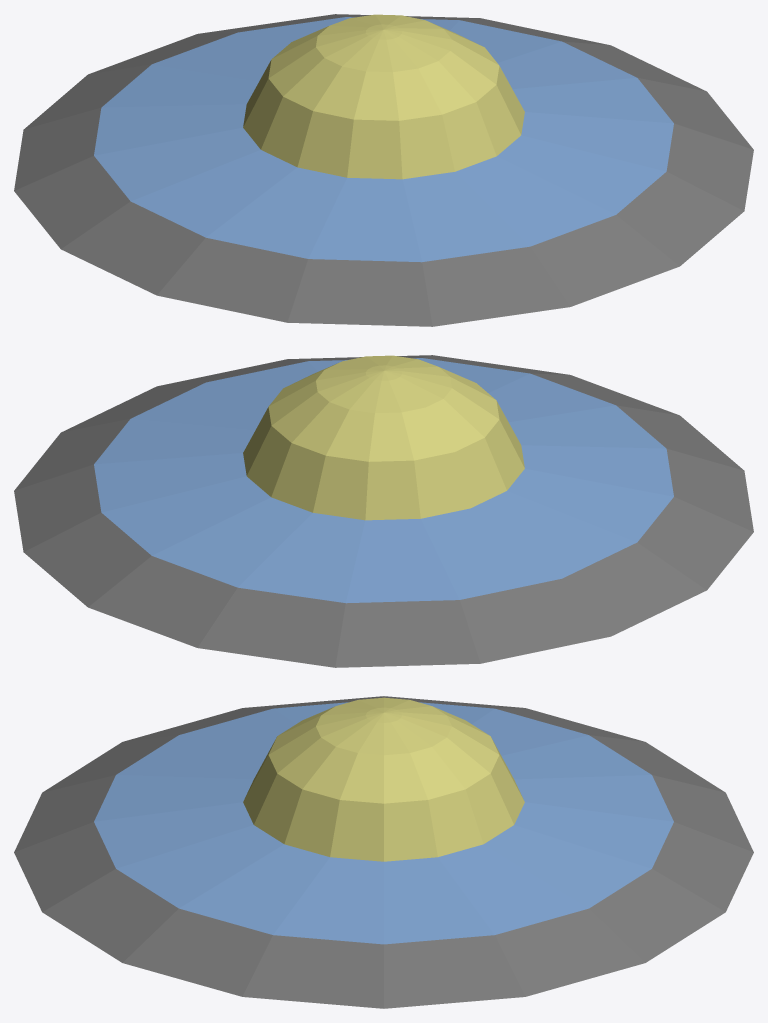
Rendered from UFO.fbx.
3 renders of one model, top to bottom at view 1: azimuth 30°, elevation 25°; view 2: azimuth 150°, elevation 25°; view 3: azimuth 270°, elevation 25°, orthographic.
Parts seen in each view (by area): view 1: 円.002, 円.004, 円.001; view 2: 円.002, 円.004, 円.001; view 3: 円.002, 円.004, 円.001.
Part boxes in pixels (x1=…): 円.002: x1=94, y1=17, x2=673, y2=262; 円.004: x1=14, y1=14, x2=753, y2=326; 円.001: x1=243, y1=14, x2=524, y2=179; 円.002: x1=94, y1=358, x2=673, y2=603; 円.004: x1=14, y1=355, x2=753, y2=667; 円.001: x1=243, y1=355, x2=524, y2=520; 円.002: x1=94, y1=702, x2=673, y2=944; 円.004: x1=14, y1=696, x2=753, y2=1008; 円.001: x1=243, y1=697, x2=524, y2=861.
Bounding box in the file's own units: 29.59 × 9.83 × 29.59.
